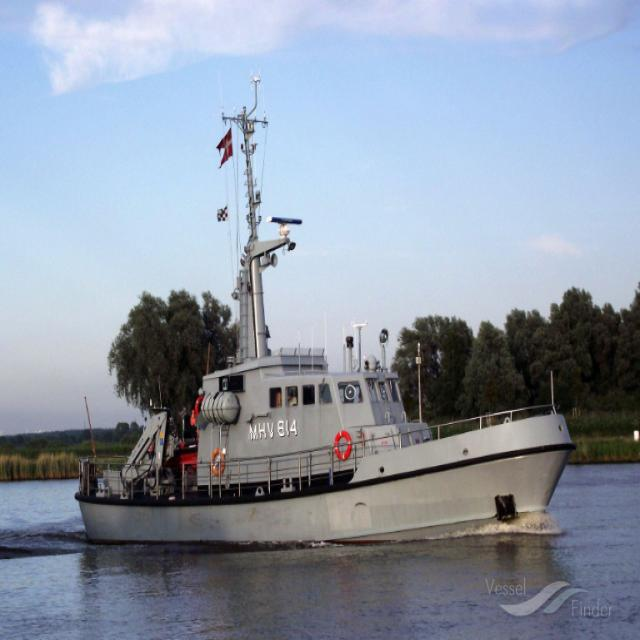OCR: (247, 416, 300, 449)
